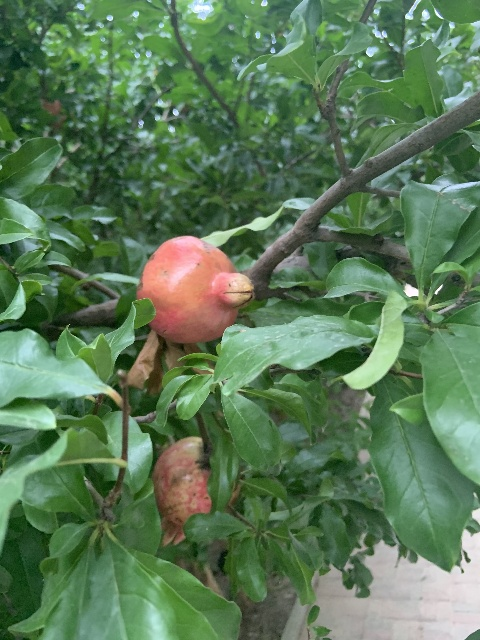ripe: (136, 235, 254, 344), (151, 437, 211, 546)
